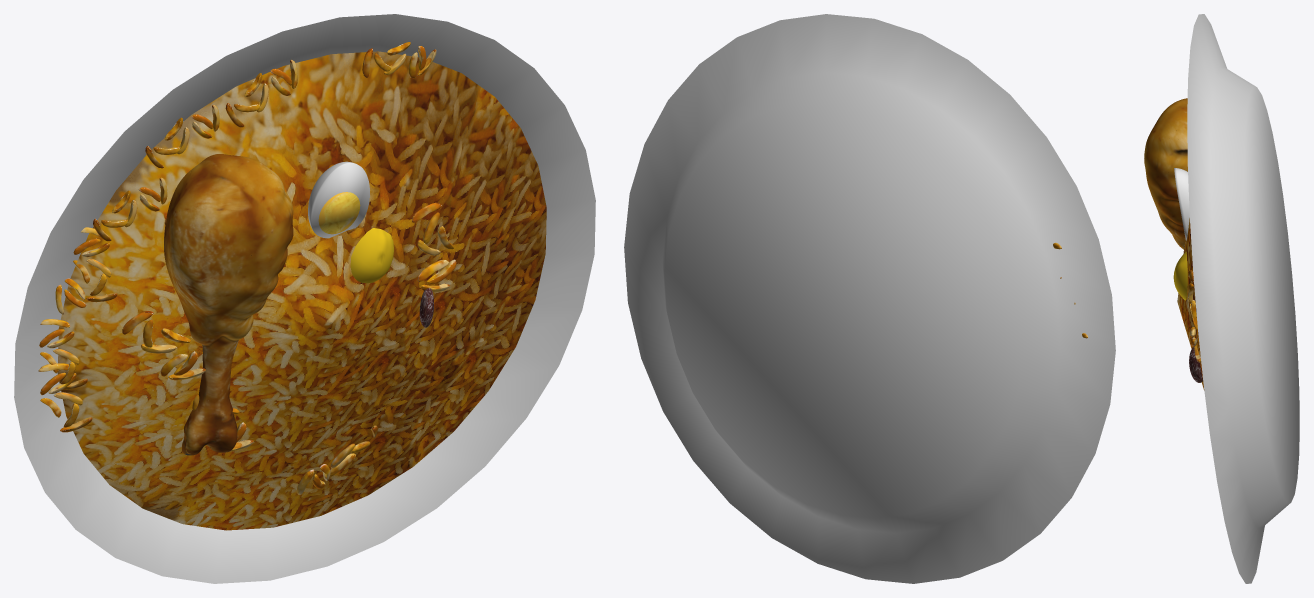
Rendered from smallchbiryani-v1.glb.
3 renders of one model, left to right at view 1: azimuth 30°, elevation 25°; view 2: azimuth 150°, elevation 25°; view 3: azimuth 270°, elevation 25°, orthographic. The views are drawn at different scales.
Visible parts, largest first — view 1: Cone, Circle.002, 15513_Fried_Chicken_Drumstick_v1.001, Sphere, Sphere.001, Plane.025, Plane.029, Plane.004, Plane.011, Plane.012, Plane.009, Plane.005 (+3 smaller); view 2: Circle.002; view 3: Circle.002, 15513_Fried_Chicken_Drumstick_v1.001, Cone, Sphere, Sphere.001, Plane.029, Sphere.002.
Part boxes in pixels (bbox=[...]): Cone: bbox=[57, 51, 546, 530]; Circle.002: bbox=[14, 14, 595, 583]; 15513_Fried_Chicken_Drumstick_v1.001: bbox=[164, 154, 293, 455]; Sphere: bbox=[308, 161, 369, 238]; Sphere.001: bbox=[350, 228, 393, 283]; Plane.025: bbox=[122, 311, 205, 380]; Plane.029: bbox=[412, 202, 456, 291]; Plane.004: bbox=[38, 363, 92, 432]; Plane.011: bbox=[225, 59, 297, 127]; Plane.012: bbox=[362, 42, 436, 78]; Plane.009: bbox=[93, 177, 167, 241]; Plane.005: bbox=[39, 319, 87, 389]; Circle.002: bbox=[624, 14, 1115, 583]; Circle.002: bbox=[1187, 14, 1299, 583]; 15513_Fried_Chicken_Drumstick_v1.001: bbox=[1144, 98, 1187, 249]; Cone: bbox=[1177, 218, 1204, 390]; Sphere: bbox=[1174, 168, 1189, 240]; Sphere.001: bbox=[1173, 252, 1187, 300]; Plane.029: bbox=[1187, 270, 1200, 362]; Sphere.002: bbox=[1189, 347, 1202, 382].
Size of the model in its own units: 7.81 by 7.77 by 2.12.
20 materials, 17 textured.
